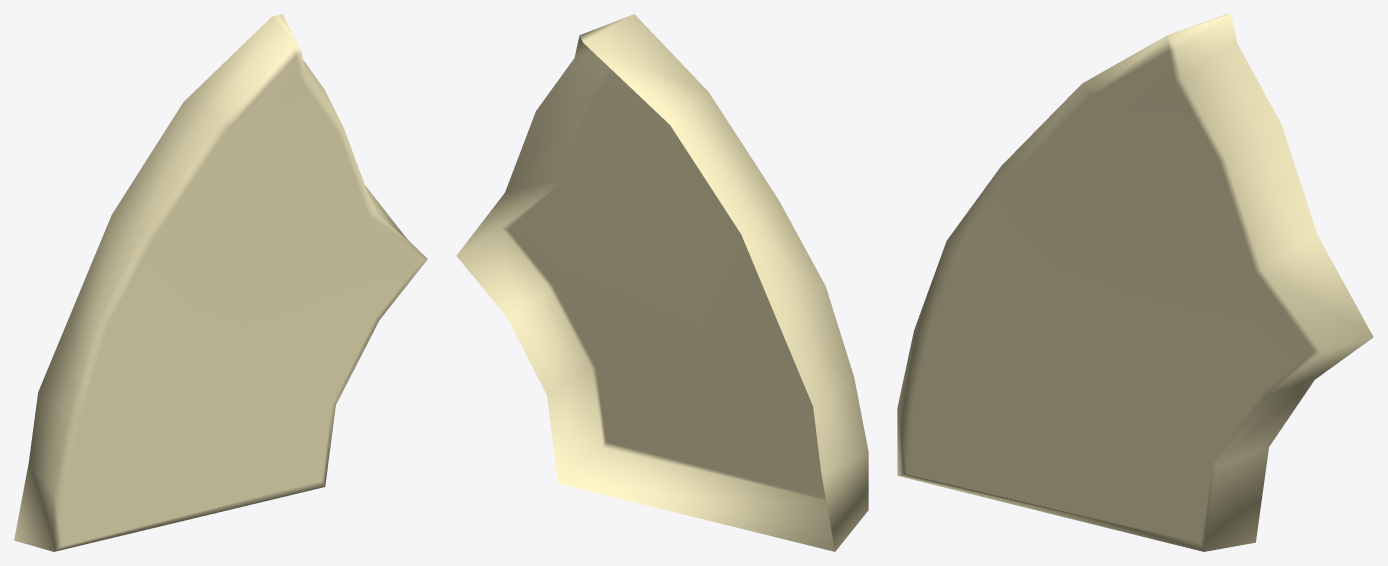
Rendered from ui_radialMenu_6_topLeft.glb.
3 views of the same model, side by side, from view 1: azimuth 30°, elevation 25°; view 2: azimuth 150°, elevation 25°; view 3: azimuth 330°, elevation 25° (orthographic). The views are drawn at different scales.
Visible parts, largest first — view 1: main6_topLeft; view 2: main6_topLeft; view 3: main6_topLeft.
Part boxes in pixels (x1,y1,x2,y2): main6_topLeft: [14, 14, 427, 551]; main6_topLeft: [456, 14, 868, 551]; main6_topLeft: [897, 14, 1373, 551].
Bounding box in the file's own units: 0.7793 × 0.8886 × 0.1309.
